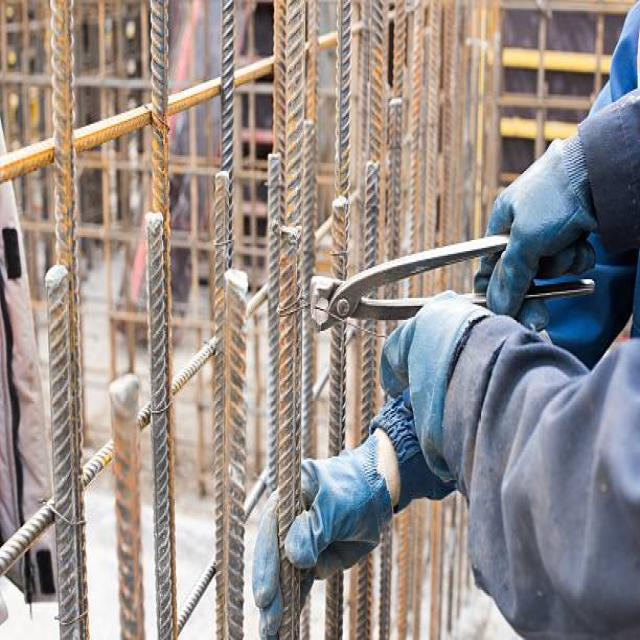gloves: (250, 436, 393, 640), (466, 129, 596, 326), (378, 284, 491, 483)
